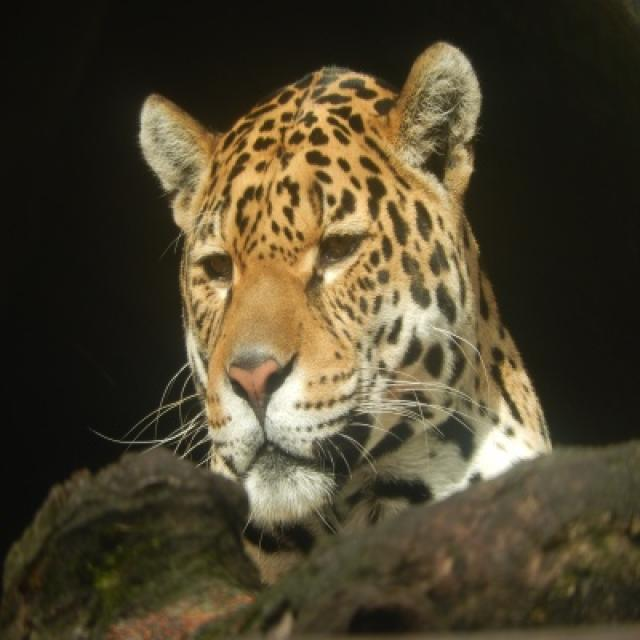Jaguar: (136, 42, 554, 558)
